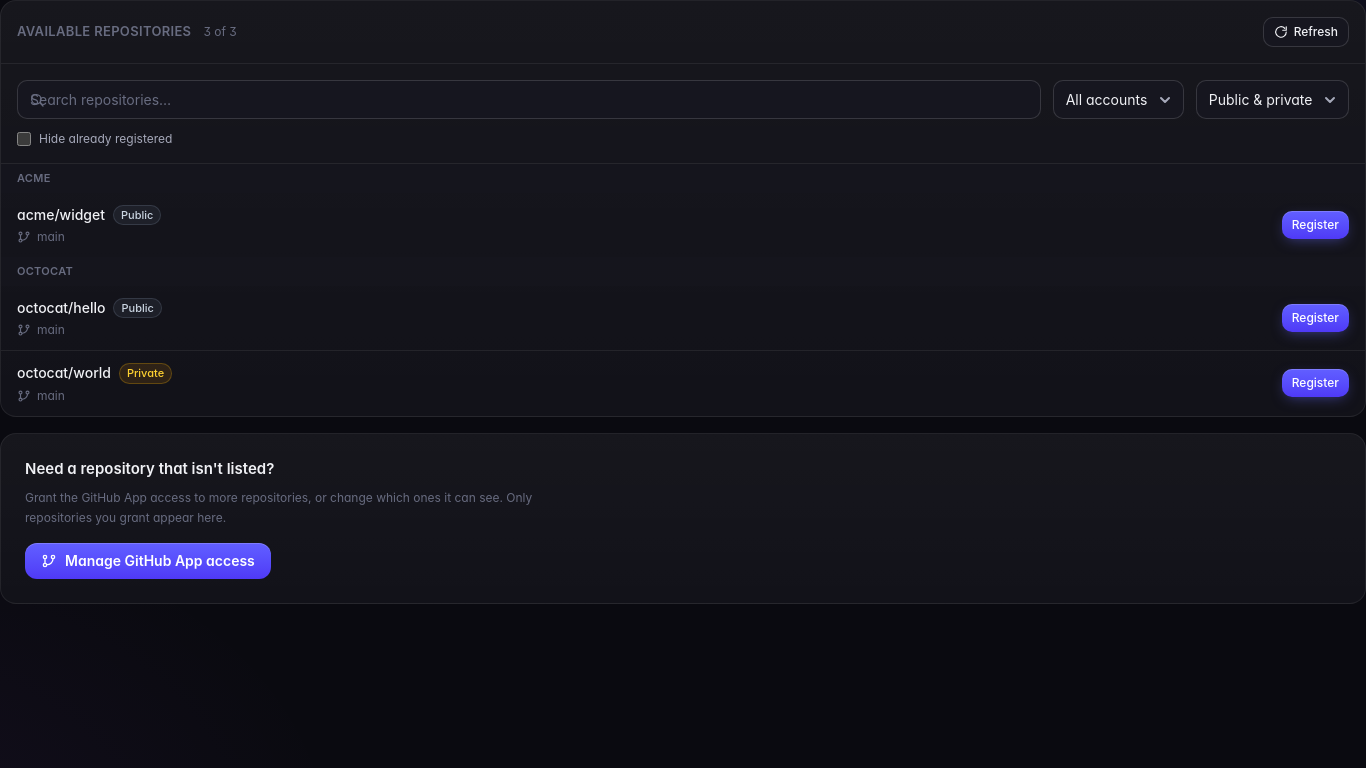
Test: RepoPicker filtering › filters by search text
Type "widget" into the search field labelled "Search repositories…" at {"x": 529, "y": 100}, box x1=17 y1=80 x2=1041 y2=119
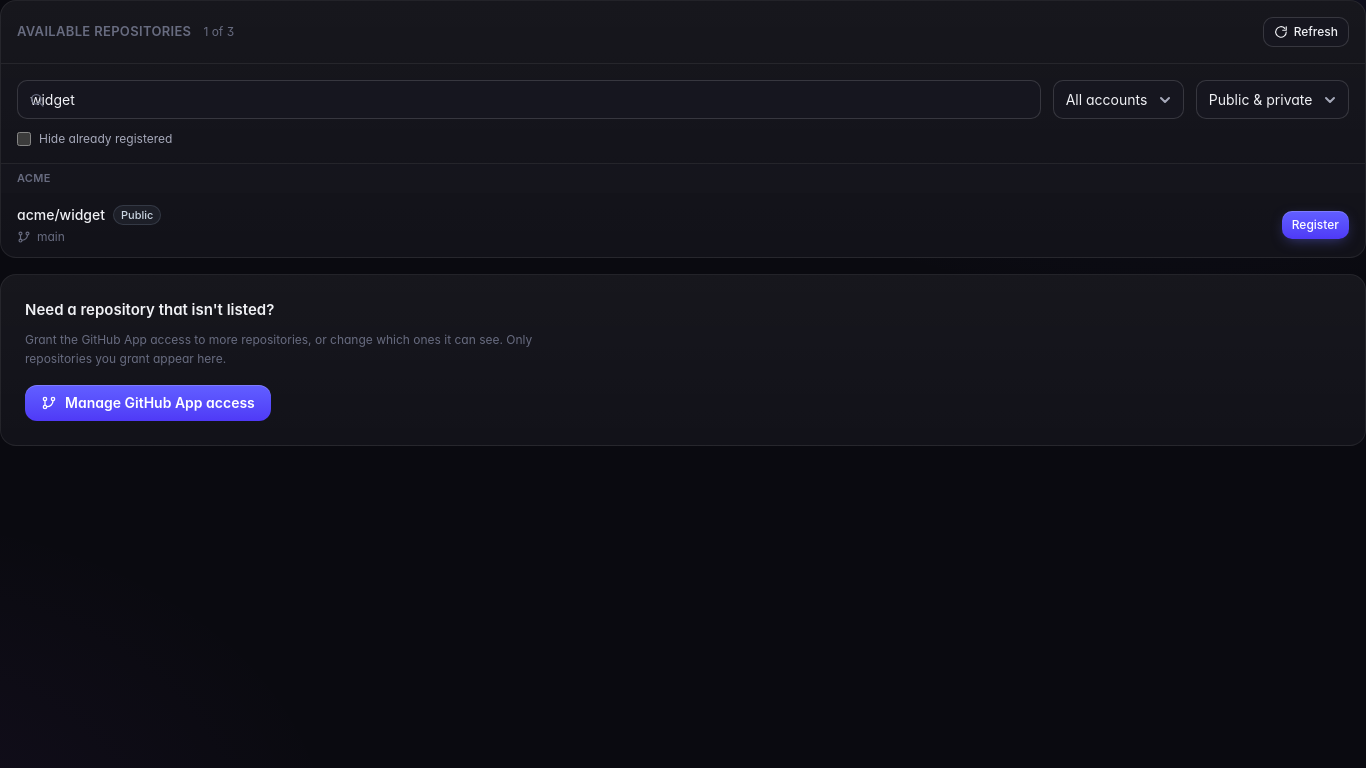
Expected: the text "acme/widget" is shown, x1=17 y1=205 x2=105 y2=225
Expected: the text "octocat/hello" is gone
